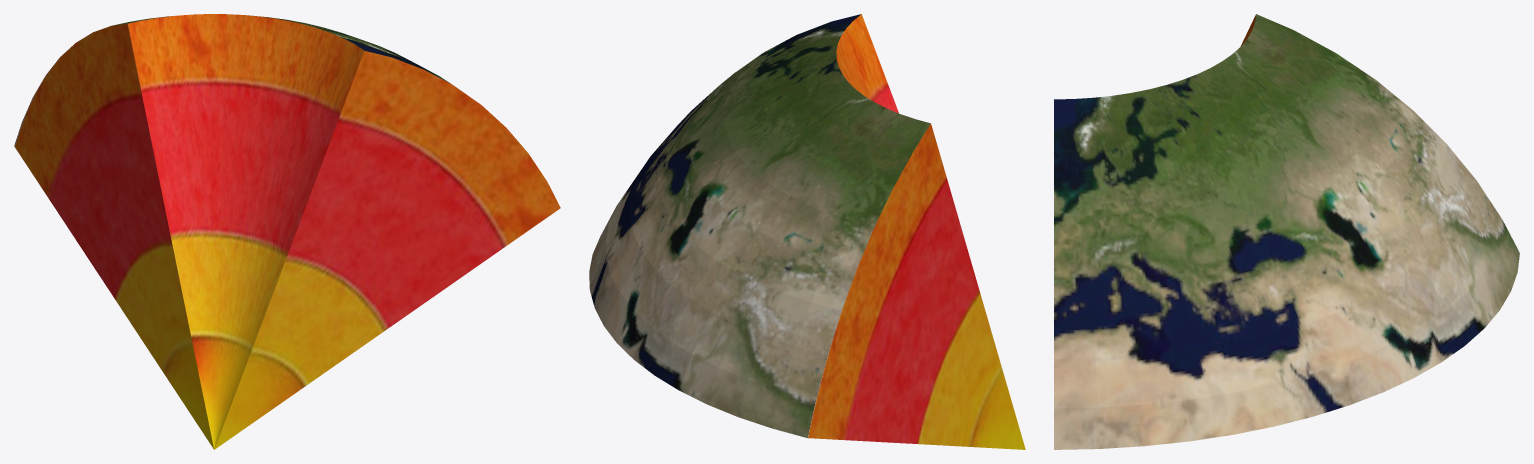
File: 5_Slice_mid.glb
The picture shows the model from 3 angles, left to right: view 1: azimuth 30°, elevation 25°; view 2: azimuth 150°, elevation 25°; view 3: azimuth 270°, elevation 25°; orthographic projection. The views are drawn at different scales.
Visible parts, largest first — view 1: Slice_mid; view 2: Slice_mid; view 3: Slice_mid.
Boxes of the visible parts, left/top/right/bottom form: Slice_mid: left=14, top=14, right=560, bottom=449; Slice_mid: left=589, top=14, right=1025, bottom=449; Slice_mid: left=1054, top=14, right=1519, bottom=449.
Bounding box in the file's own units: 4.58 × 4.58 × 4.58.
Materials: 2 (2 with a texture image).
